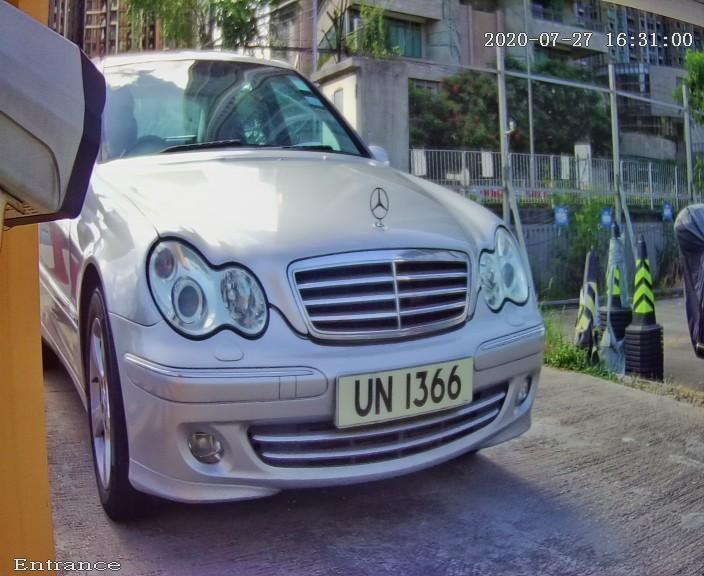privatecar: (32, 6, 604, 541)
